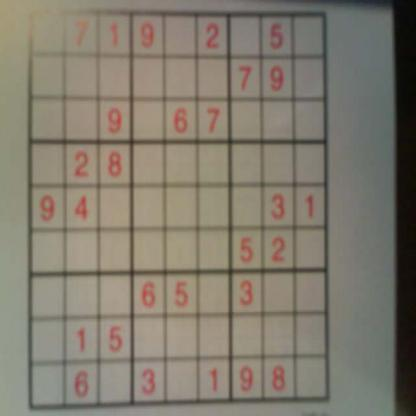sudoku: (24, 1, 337, 413)
